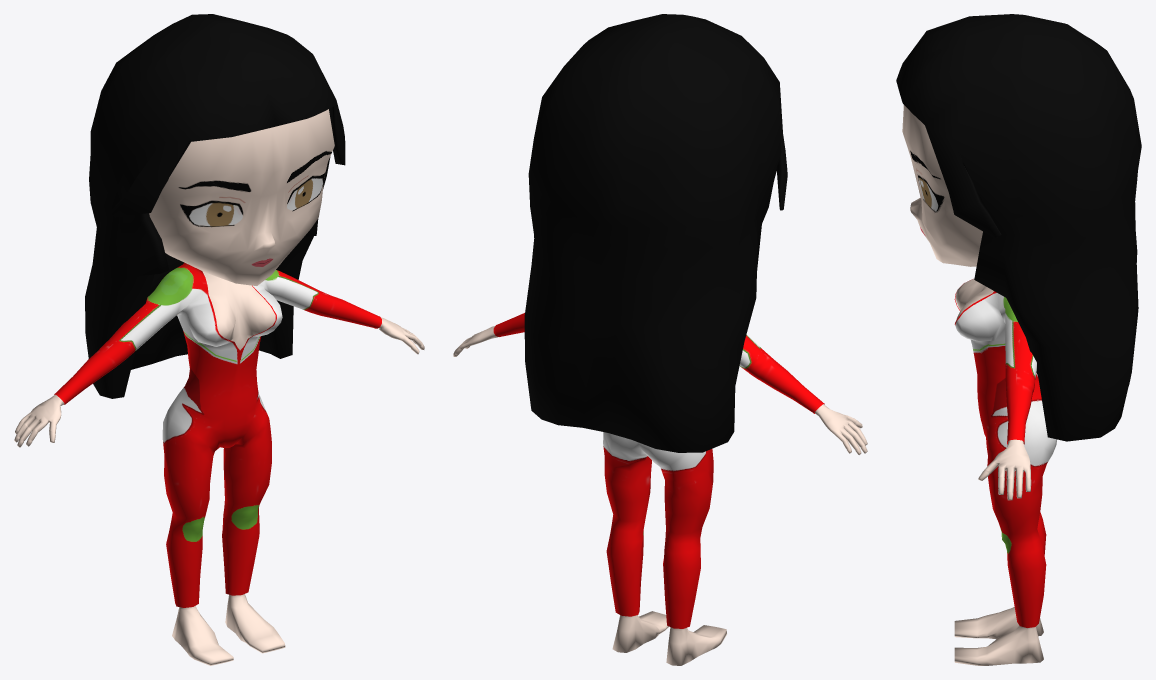
File: reiko.fbx
The picture shows the model from 3 angles, left to right: view 1: azimuth 30°, elevation 25°; view 2: azimuth 150°, elevation 25°; view 3: azimuth 270°, elevation 25°; orthographic projection. The views are drawn at different scales.
Visible parts, largest first — view 1: Chibi Female.005, Chibi Female.001, Chibi Female.003; view 2: Chibi Female.005, Chibi Female.003, Chibi Female.001; view 3: Chibi Female.005, Chibi Female.003, Chibi Female.001.
Part boxes in pixels (box(x1,y1,x2,y2)): Chibi Female.005: box(85, 14, 345, 398); Chibi Female.001: box(14, 109, 424, 665); Chibi Female.003: box(54, 262, 381, 607); Chibi Female.005: box(524, 14, 787, 452); Chibi Female.003: box(493, 313, 824, 628); Chibi Female.001: box(453, 326, 867, 665); Chibi Female.005: box(896, 14, 1141, 441); Chibi Female.003: box(954, 278, 1056, 627); Chibi Female.001: box(902, 105, 1043, 665).
Bounding box in the file's own units: 118 × 171 × 60.64.
Materials: 3 (2 with a texture image).
